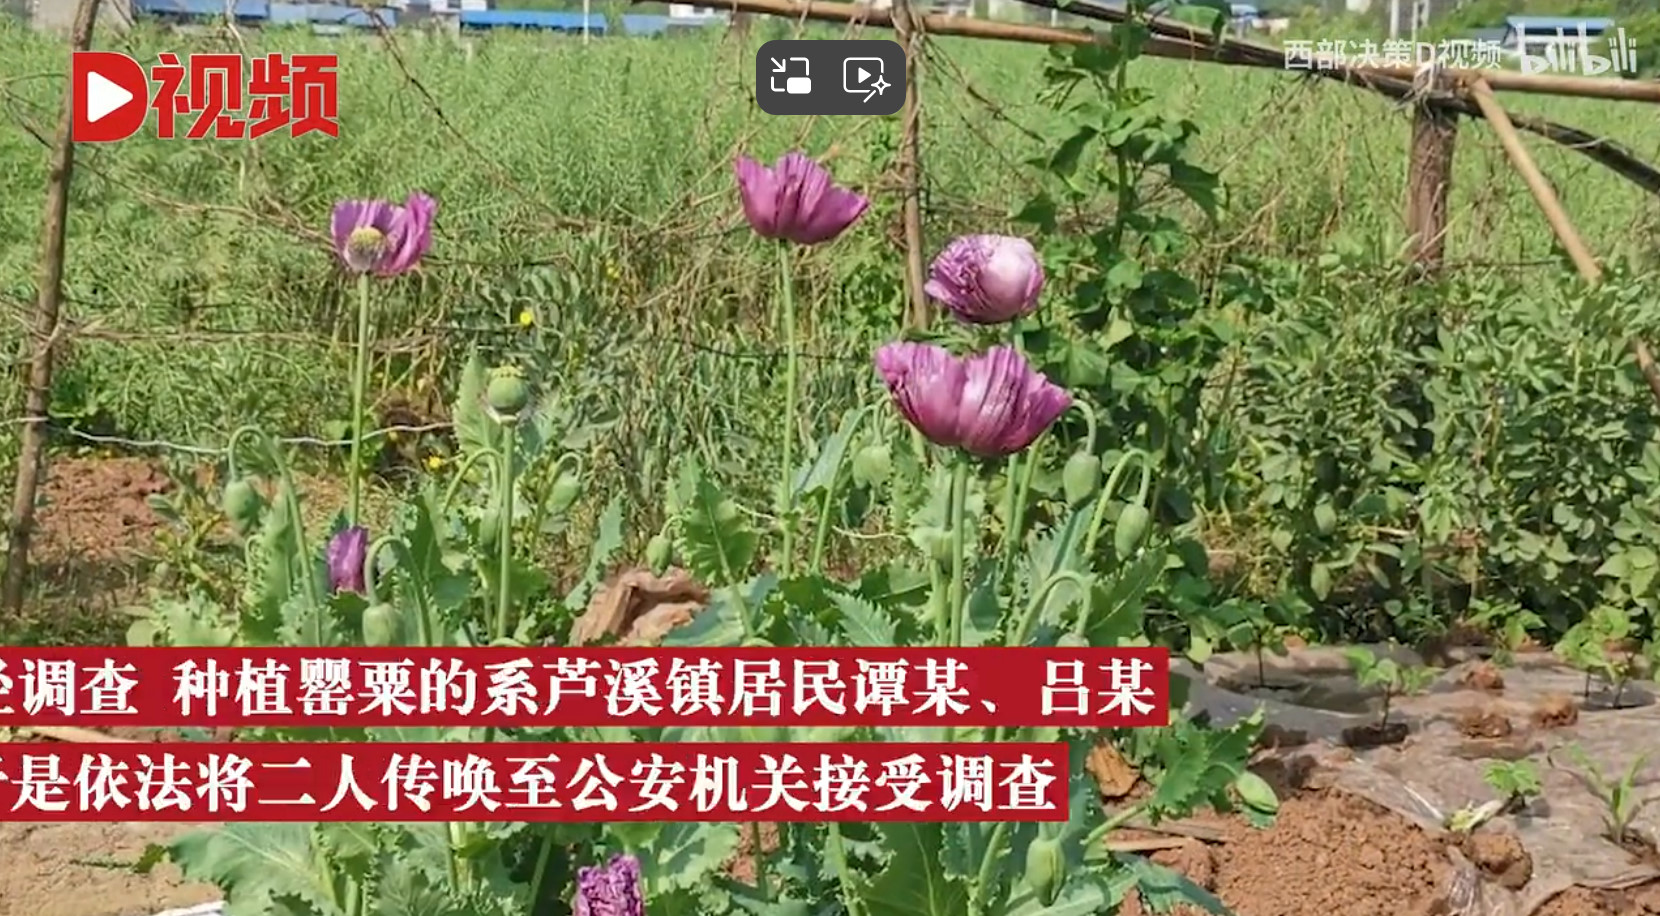Poppy: (637, 152, 1291, 916), (132, 182, 629, 896)
